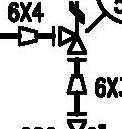psv: (57, 1, 88, 56)
